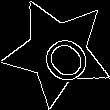O_NW: (25, 19, 90, 85)
